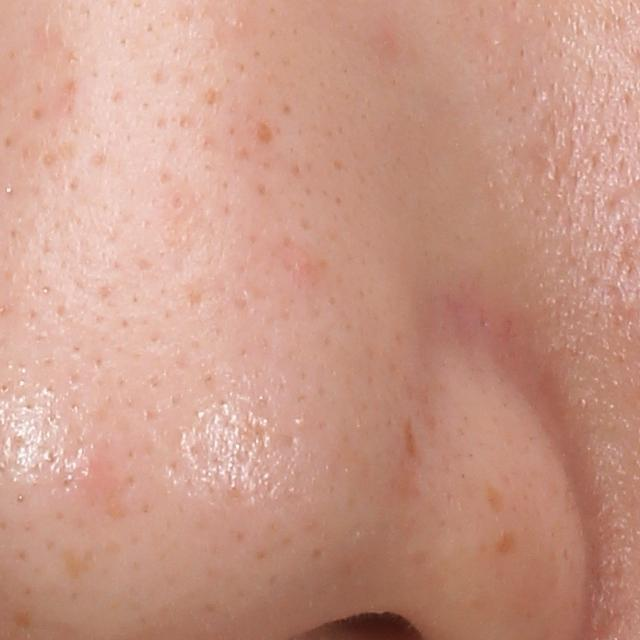melasma: (482, 478, 507, 517), (492, 526, 519, 555)
